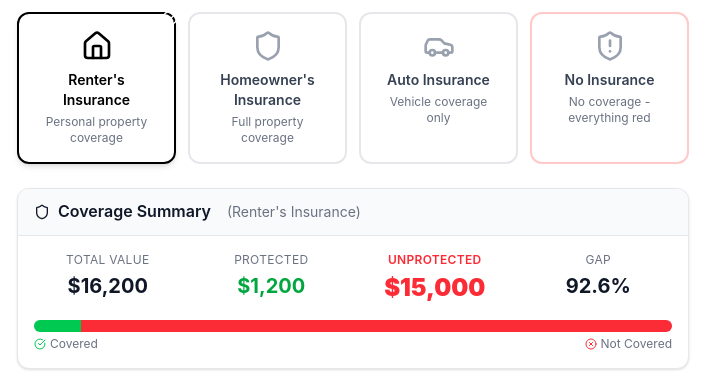
PolicySelector › Coverage Restoration › correctly updates dashboard totals when switching policies
Expected: the text with test id "protected-value" reads "$1,200", [237,274,305,298]
Expected: the text with test id "unprotected-value" reads "$15,000", [384,273,485,302]
Switch to homeowners (both covered)
Step 1. Click the button with aria-label "Select Homeowner's Insurance" → {"x": 268, "y": 88}, box [188,12,347,164]
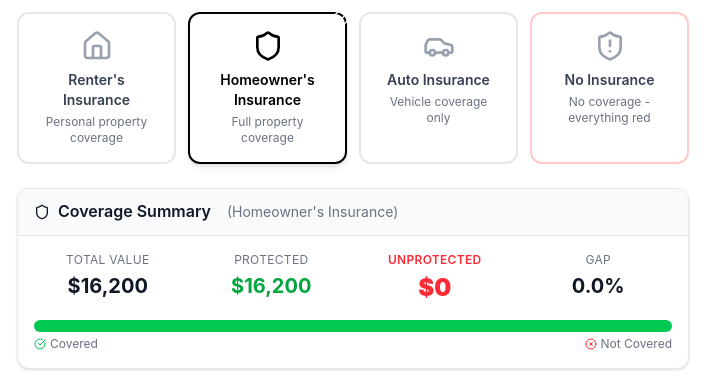
Now the text with test id "protected-value" reads "$16,200", box [231,274,312,298]
Now the text with test id "unprotected-value" reads "$0", box [418,273,451,302]
